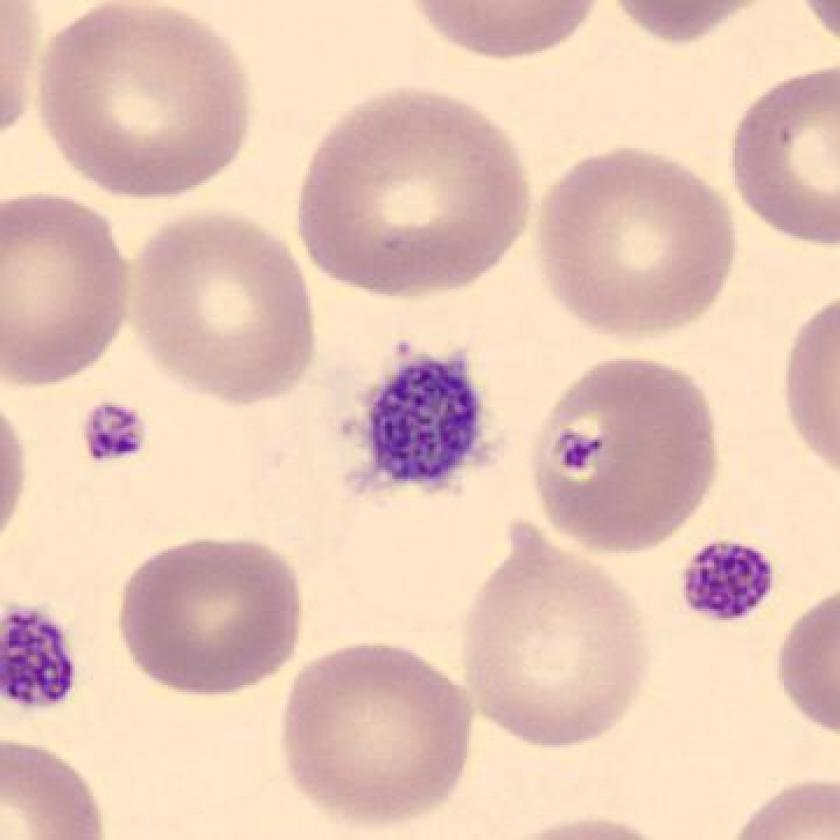platelets: (346, 332, 496, 501), (673, 526, 780, 640), (1, 596, 92, 718), (76, 390, 155, 473)
